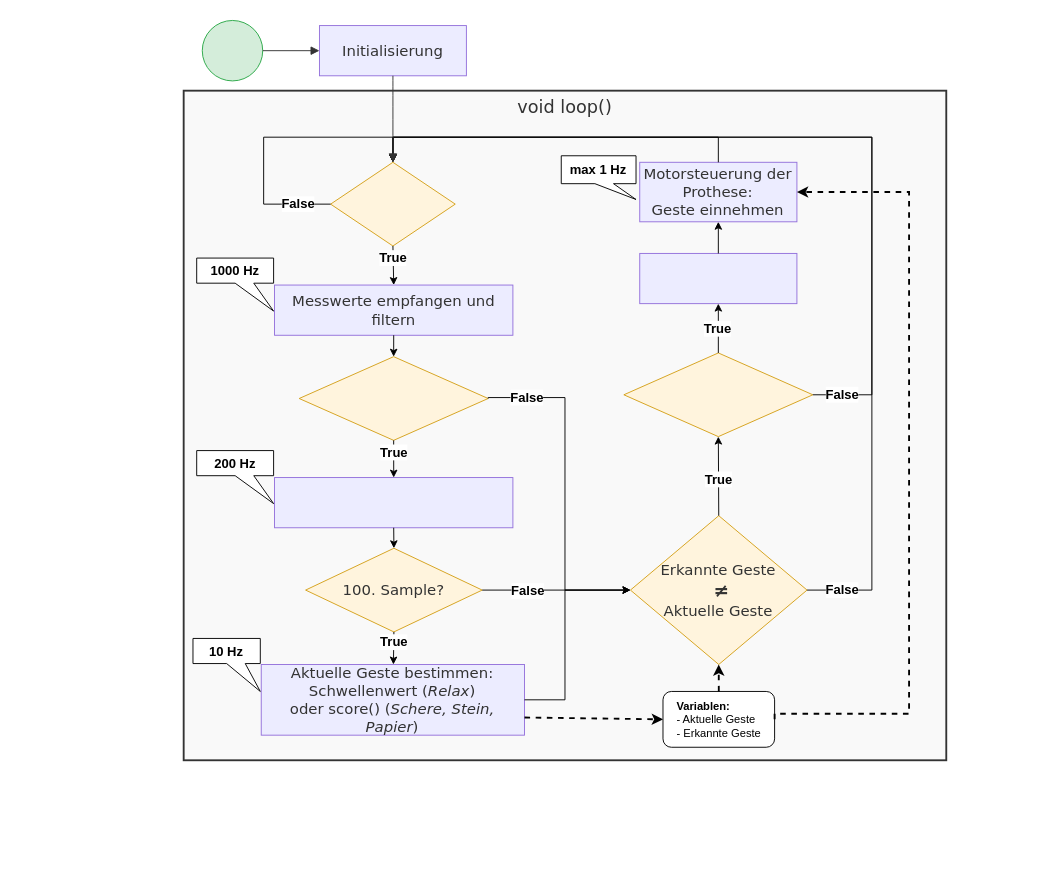
Image size: 1044x887. Some labels were removed from this diagram. The shapes that lost their labels are listed below. From the top down, each one's centre as x and y in pixels, then its label:
the point at 232,50: Start
the point at 392,203: SPI DRDY?
the point at 718,278: Setzt Motor für 1s auf Busy
the point at 393,398: 5. Sample?
the point at 718,394: Motor not Busy?
the point at 393,502: Sample in Buffer Speichern
